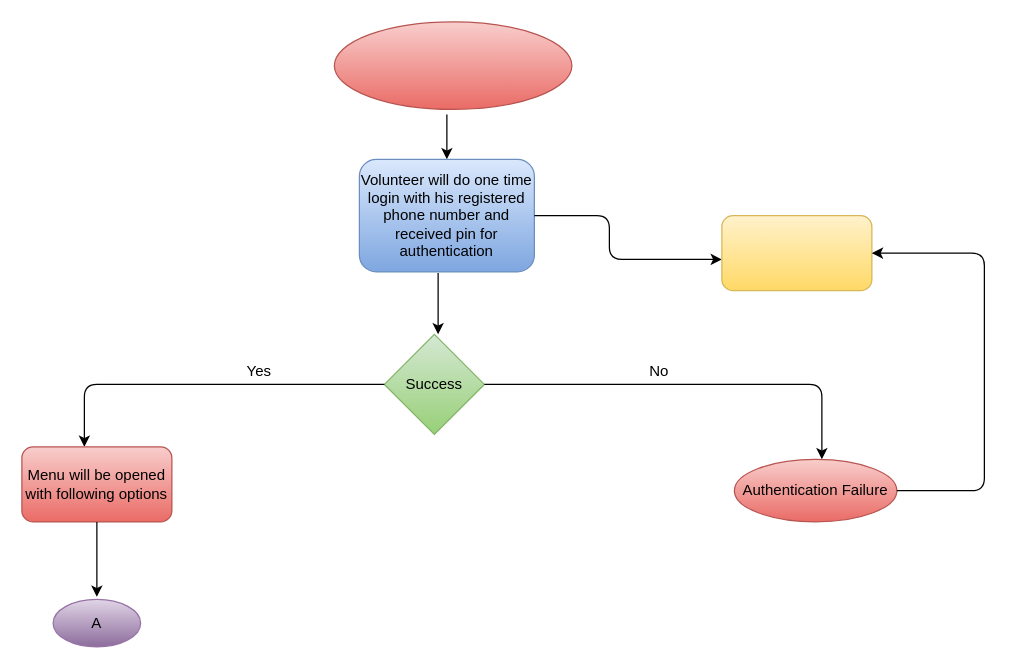
The diagram is 1016 pixels wide and 669 high, and some of its shapes have lost their labels. Here are the shapes that lost their labels. From the top down, the box of each, then its label:
(333, 21, 572, 109): App screen appears on launch
(721, 214, 872, 291): User can ask for PIN via message on his phone number.
